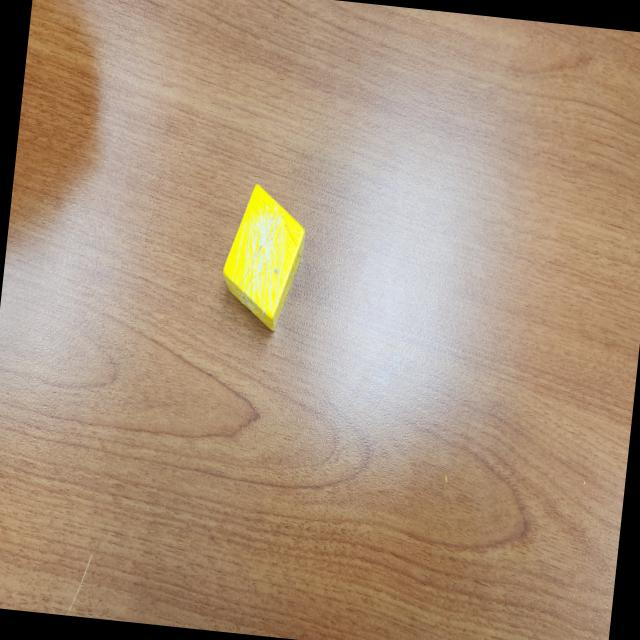broken: (216, 180, 310, 335)
